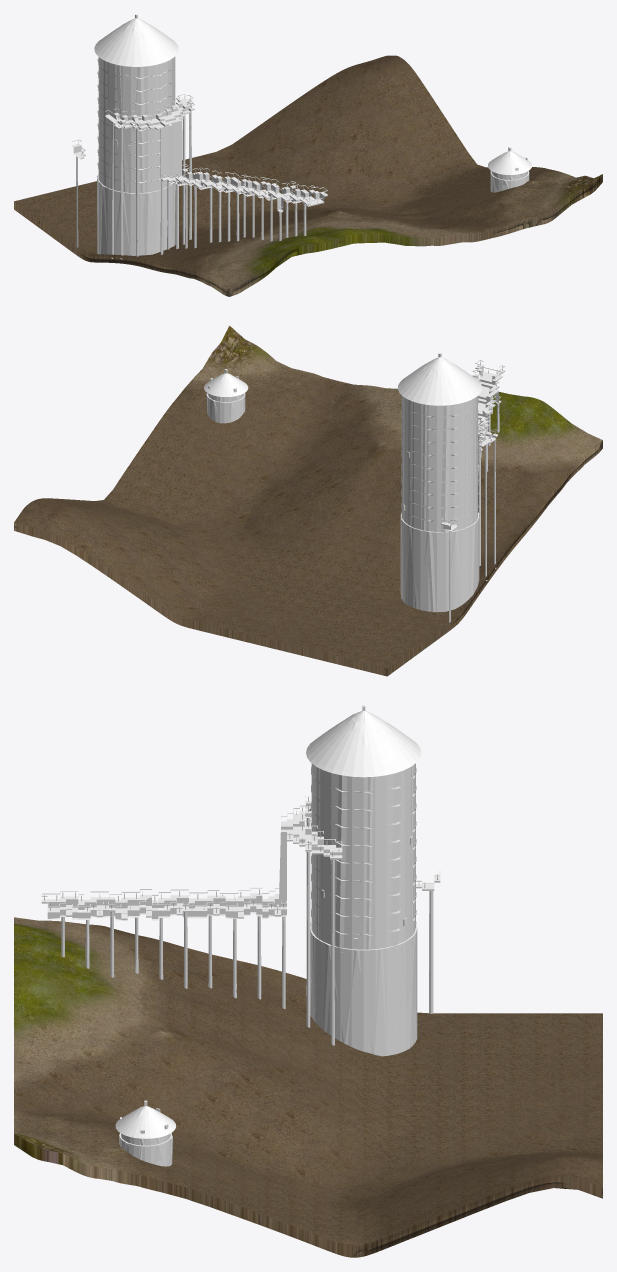
Rendered from chunk_3_1.glb.
The picture shows the model from 3 angles, top to bottom: view 1: azimuth 30°, elevation 25°; view 2: azimuth 150°, elevation 25°; view 3: azimuth 270°, elevation 25°; orthographic projection. The views are drawn at different scales.
Visible parts, largest first — view 1: Terrain_L0, Terrain_L2, Buildings_L0, Buildings_L1, Terrain_L1; view 2: Terrain_L2, Terrain_L0, Buildings_L0, Terrain_L1, Buildings_L1; view 3: Terrain_L2, Terrain_L0, Buildings_L0, Terrain_L1, Buildings_L1.
Boxes of the visible parts, box(x1,y1,x2,y2) form: Terrain_L0: box(14, 55, 602, 296); Terrain_L2: box(14, 56, 602, 296); Buildings_L0: box(71, 14, 531, 258); Buildings_L1: box(72, 18, 531, 259); Terrain_L1: box(14, 58, 602, 296); Terrain_L2: box(18, 325, 602, 676); Terrain_L0: box(14, 327, 602, 676); Buildings_L0: box(204, 353, 505, 622); Terrain_L1: box(14, 339, 602, 675); Buildings_L1: box(204, 357, 498, 622); Terrain_L2: box(14, 917, 602, 1256); Terrain_L0: box(14, 920, 602, 1257); Buildings_L0: box(41, 705, 440, 1166); Terrain_L1: box(14, 925, 602, 1257); Buildings_L1: box(47, 710, 437, 1166).
Size of the model in its own units: 96.5 by 61.51 by 96.
Materials: 4 (1 with a texture image).
